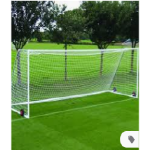goals: (12, 47, 140, 118)
